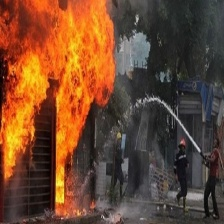fire: (1, 1, 115, 215)
